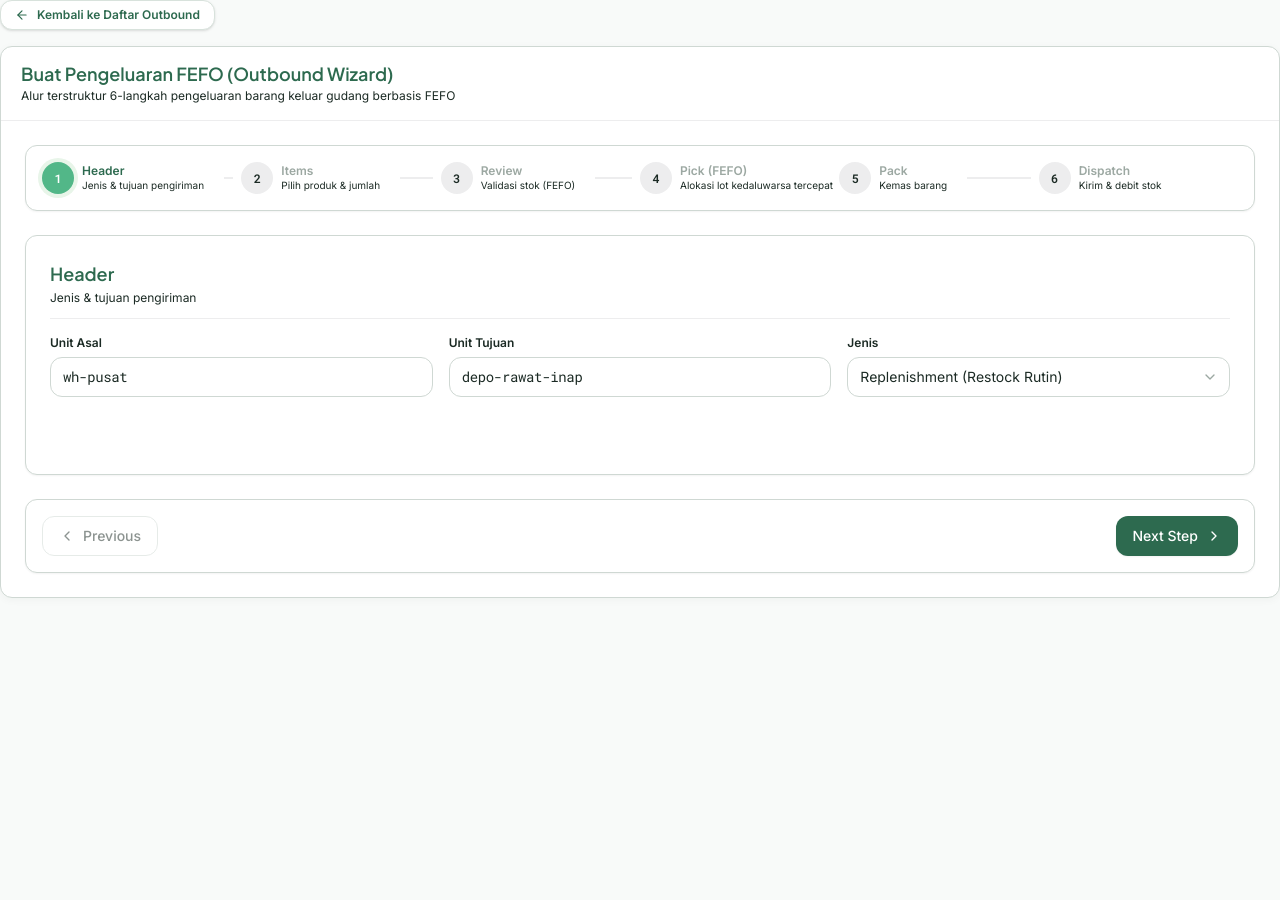
Scenario: OutboundNew › adds a product item in the items step
The width and height of the screenshot is (1280, 900).
Note: Go to items step
Click the button "Next Step" at (1177, 536), box x1=1116 y1=516 x2=1238 y2=556
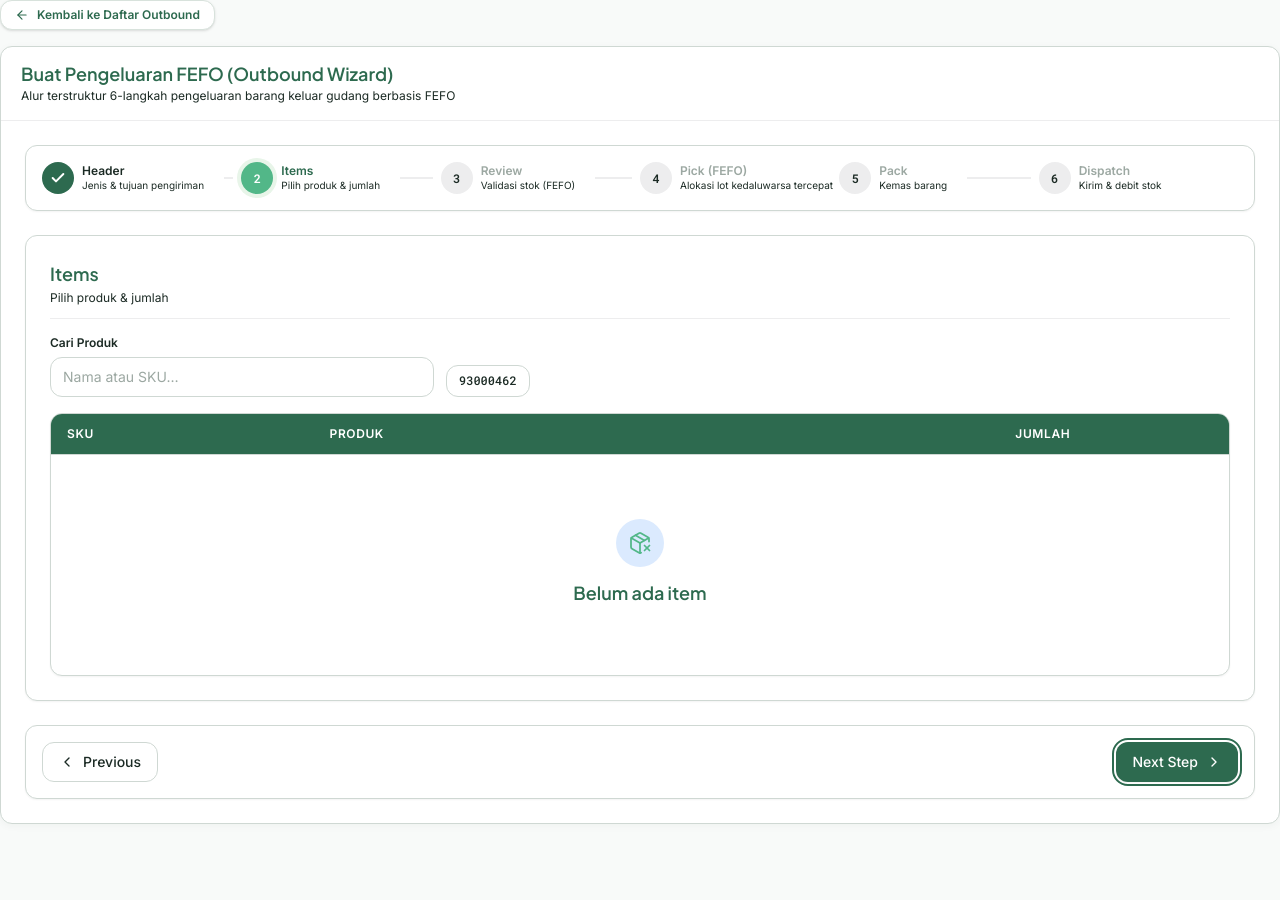
Expected: the field labelled "Cari Produk" is shown, x1=50 y1=356 x2=434 y2=396
Click the button "93000462" at (488, 380), box x1=446 y1=364 x2=530 y2=396
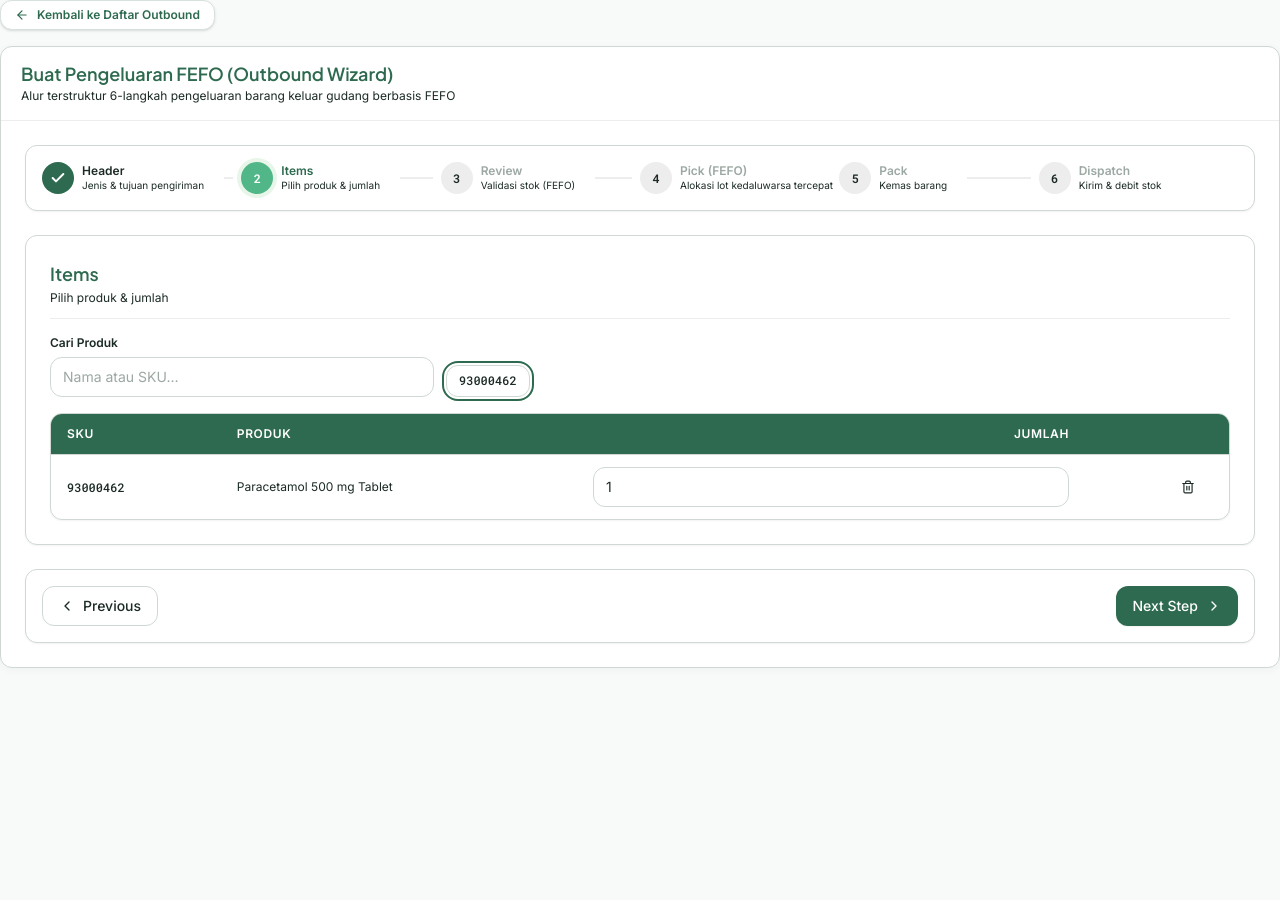
Expected: the text "Paracetamol 500 mg Tablet" is shown, x1=221 y1=454 x2=577 y2=518
